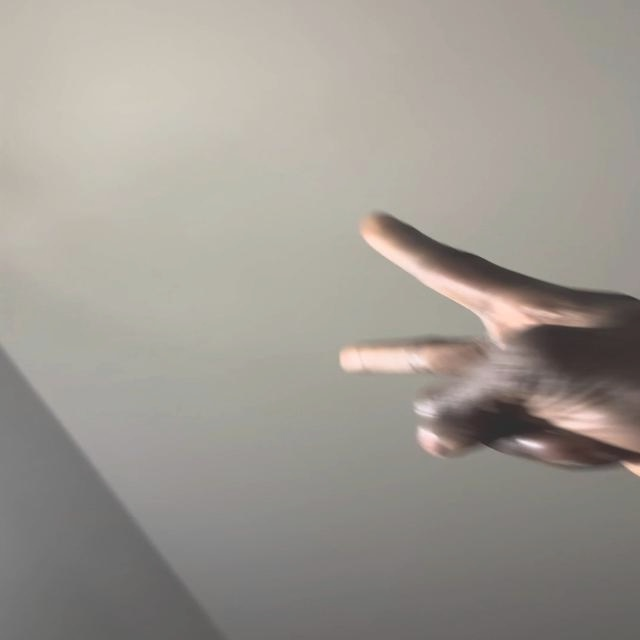Scissors: (335, 207, 640, 485)
